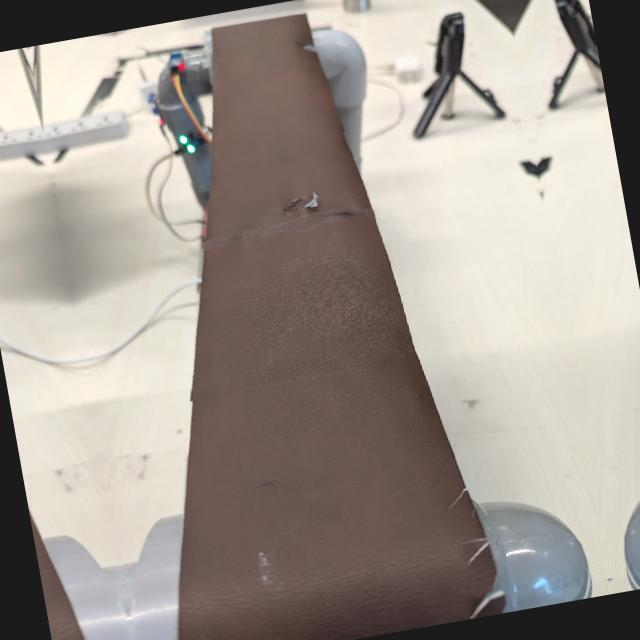joint_damage: (269, 173, 335, 230)
